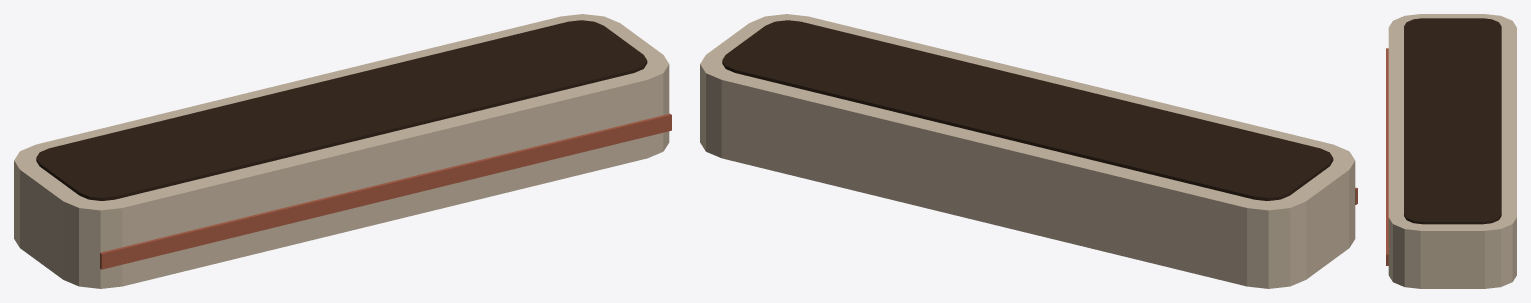
File: city_planter_4.glb
The picture shows the model from 3 angles, left to right: view 1: azimuth 30°, elevation 25°; view 2: azimuth 150°, elevation 25°; view 3: azimuth 270°, elevation 25°; orthographic projection. The views are drawn at different scales.
Parts seen in each view (by area): view 1: CityPlanter4_Rim, CityPlanter4_Soil, CityPlanter4_Band; view 2: CityPlanter4_Rim, CityPlanter4_Soil; view 3: CityPlanter4_Soil, CityPlanter4_Rim, CityPlanter4_Band.
Boxes of the visible parts, bbox=[...] form: CityPlanter4_Rim: bbox=[14, 14, 669, 288]; CityPlanter4_Soil: bbox=[36, 20, 647, 200]; CityPlanter4_Band: bbox=[100, 113, 671, 269]; CityPlanter4_Rim: bbox=[700, 14, 1355, 288]; CityPlanter4_Soil: bbox=[722, 20, 1333, 200]; CityPlanter4_Soil: bbox=[1404, 18, 1501, 224]; CityPlanter4_Rim: bbox=[1388, 14, 1516, 288]; CityPlanter4_Band: bbox=[1386, 48, 1388, 265].
Bounding box in the file's own units: 4 × 0.52 × 1.02.
